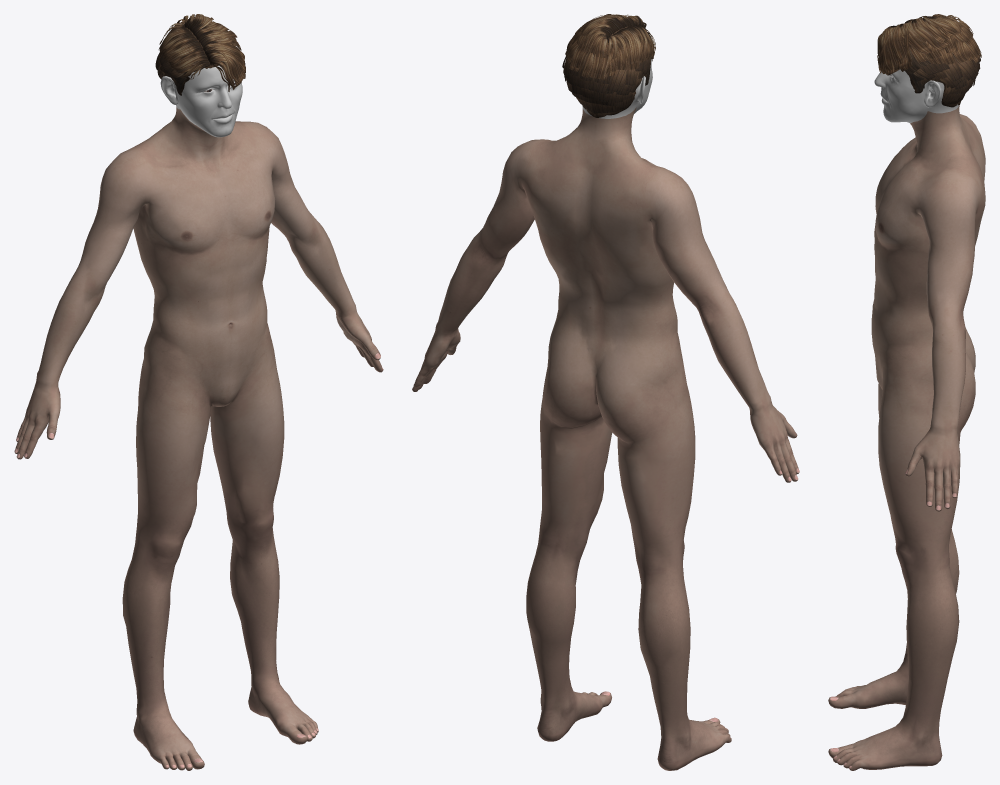
The model's file is MaleFull-a Pose.fbx.
3 renders of one model, left to right at view 1: azimuth 30°, elevation 25°; view 2: azimuth 150°, elevation 25°; view 3: azimuth 270°, elevation 25°, orthographic. The views are drawn at different scales.
Visible parts, largest first — view 1: Male; view 2: Male; view 3: Male.
Part boxes in pixels (x1,y1,x2,y2): Male: [14, 14, 383, 770]; Male: [412, 14, 799, 770]; Male: [828, 14, 985, 770].
Bounding box in the file's own units: 100 × 185 × 36.71.
